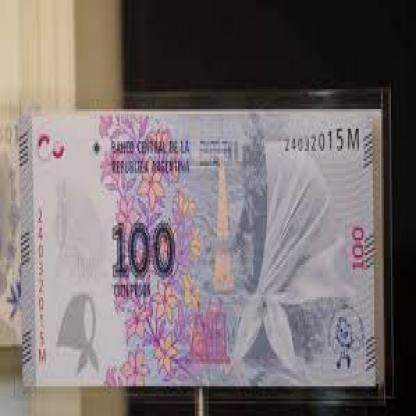billete: (15, 106, 377, 389)
